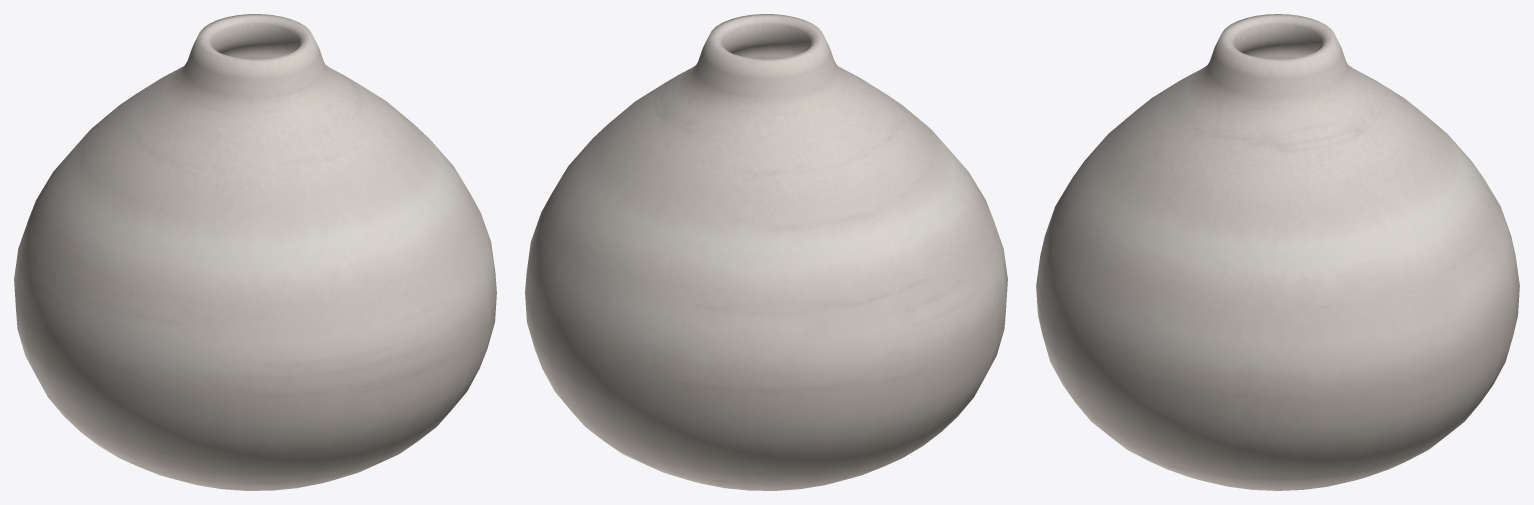
The model's file is vase03.fbx.
3 views of the same model, side by side, from view 1: azimuth 30°, elevation 25°; view 2: azimuth 150°, elevation 25°; view 3: azimuth 270°, elevation 25° (orthographic).
Visible parts, largest first — view 1: vases.002; view 2: vases.002; view 3: vases.002.
Part boxes in pixels (box(x1,y1,x2,y2)): vases.002: box(14, 14, 496, 490); vases.002: box(525, 14, 1007, 490); vases.002: box(1036, 14, 1519, 490).
Size of the model in its own units: 13.96 by 12.73 by 13.96.
